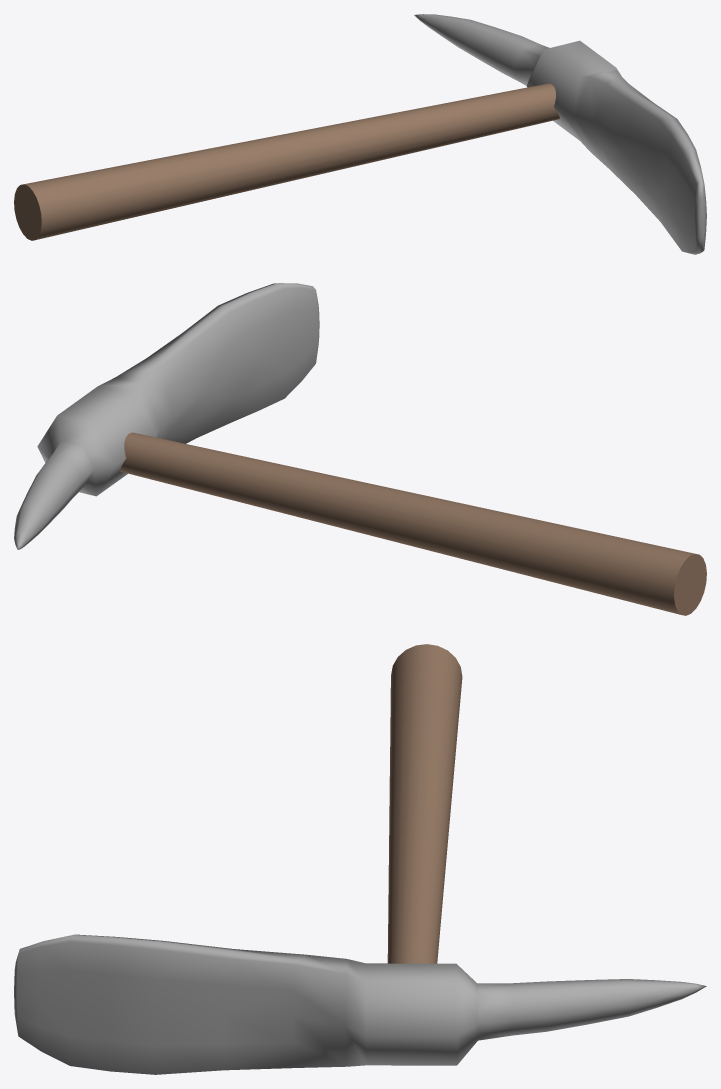
Rendered from Pickaxe.fbx.
The picture shows the model from 3 angles, top to bottom: view 1: azimuth 30°, elevation 25°; view 2: azimuth 150°, elevation 25°; view 3: azimuth 270°, elevation 25°; orthographic projection. The views are drawn at different scales.
Visible parts, largest first — view 1: pCylinder2, pCylinder1; view 2: pCylinder2, pCylinder1; view 3: pCylinder1, pCylinder2.
Boxes of the visible parts, x1,y1,x2,y2 form: pCylinder2: (14,83,559,240); pCylinder1: (414,14,706,254); pCylinder2: (120,432,706,615); pCylinder1: (14,283,319,549); pCylinder1: (14,934,706,1074); pCylinder2: (387,644,462,963).
Bounding box in the file's own units: 11.28 × 2 × 9.39.
